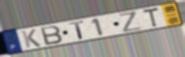1: (91, 18, 105, 37)
B: (39, 24, 64, 46)
K: (20, 28, 42, 49)
T: (142, 6, 161, 28), (69, 20, 87, 40)
Z: (117, 10, 144, 33)
